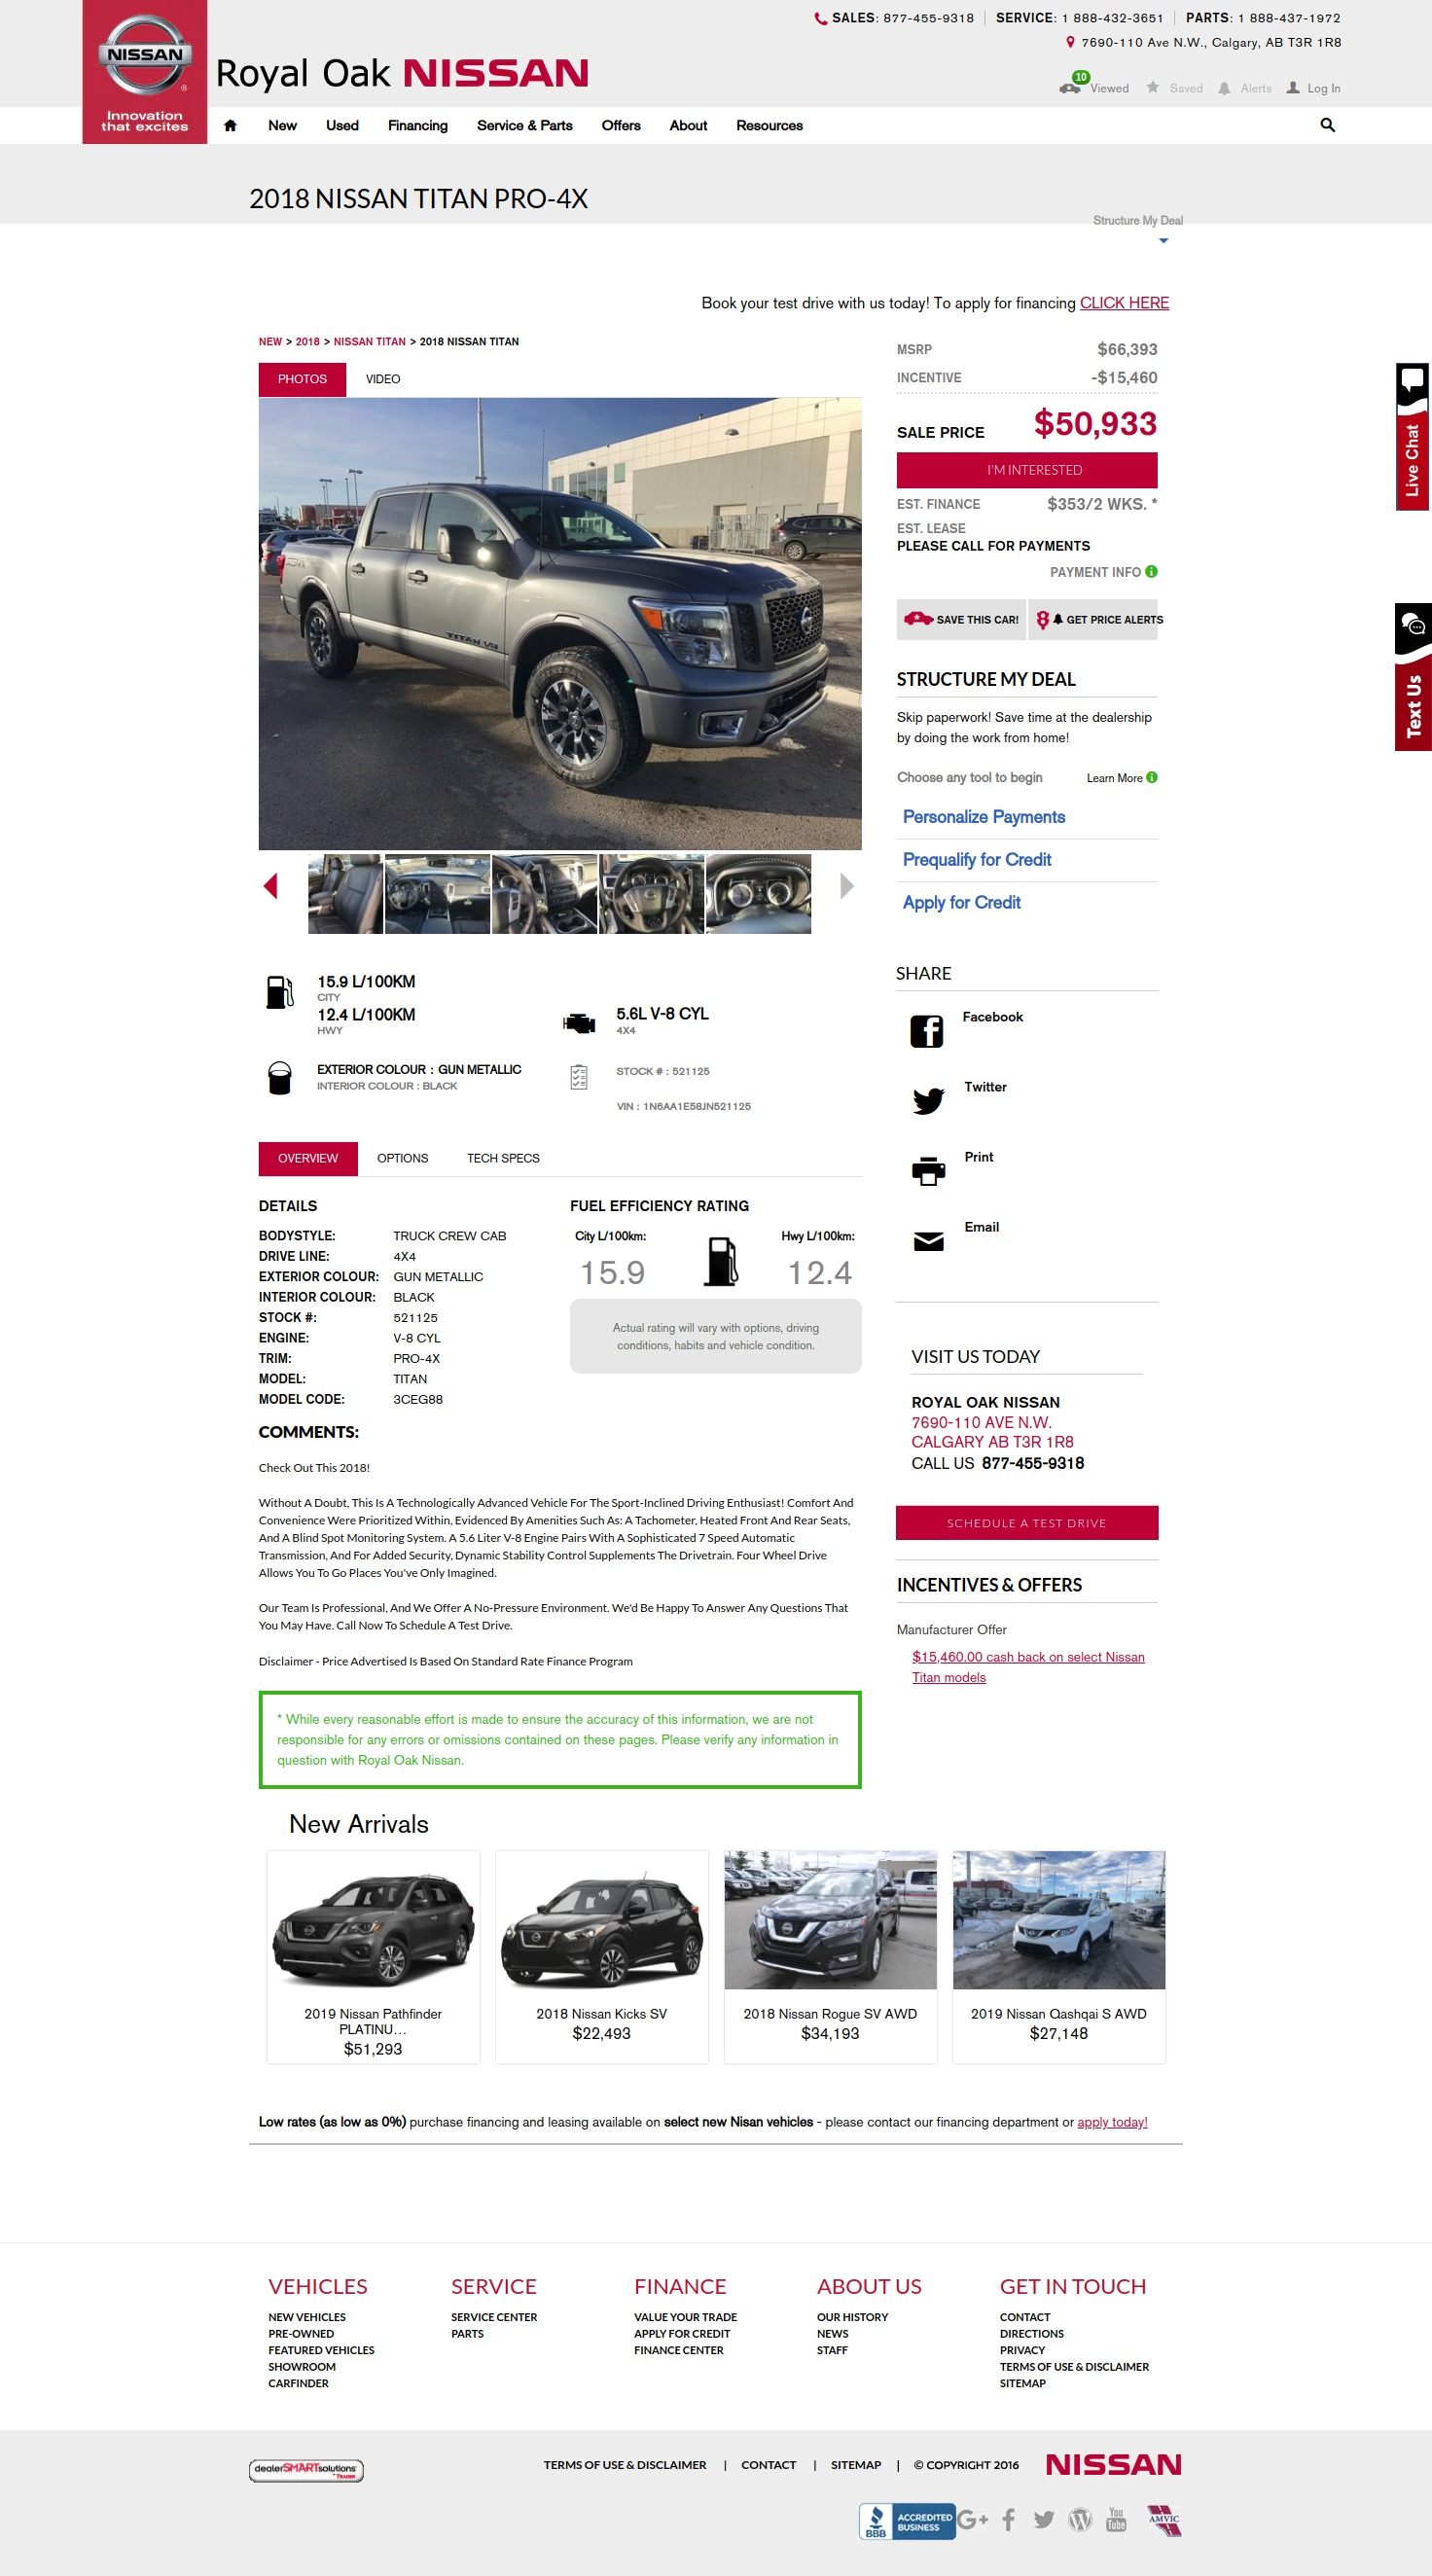car: (841, 873, 855, 901)
